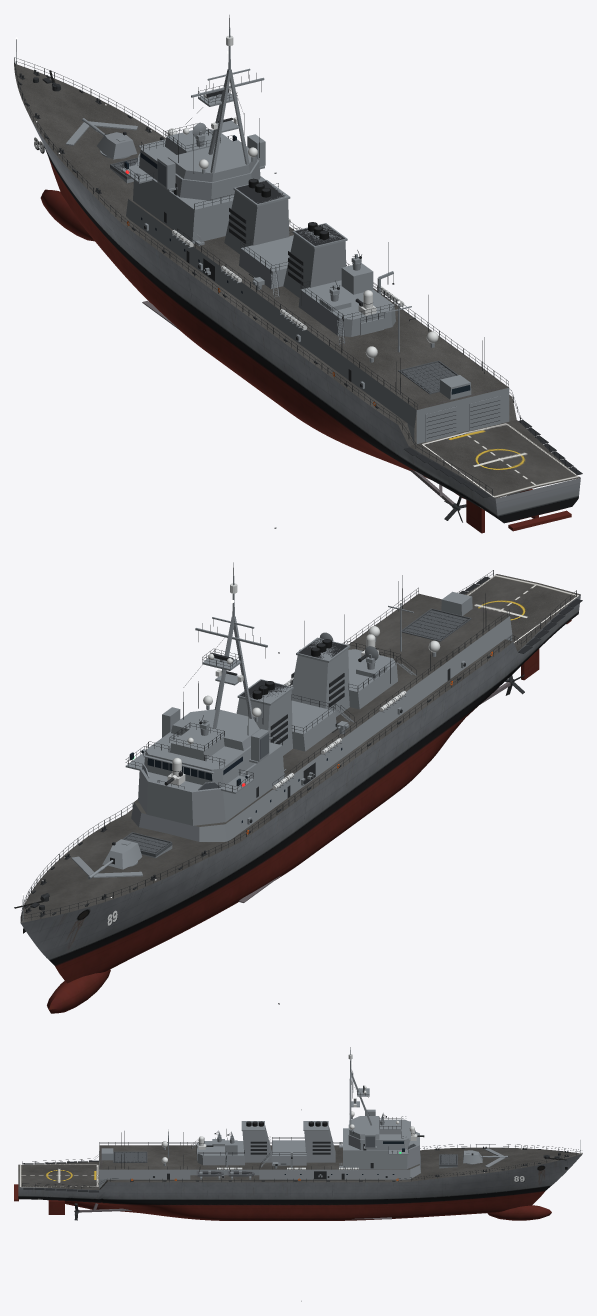
Rendered from destroyer.glb.
The picture shows the model from 3 angles, top to bottom: view 1: azimuth 30°, elevation 25°; view 2: azimuth 150°, elevation 25°; view 3: azimuth 270°, elevation 25°; orthographic projection. The views are drawn at different scales.
Parts seen in each view (by area): view 1: destroyer_static, mount_gun_0, door_hangar_1, door_hangar_2; view 2: destroyer_static, mount_gun_0; view 3: destroyer_static.
Boxes of the visible parts, <box> form: destroyer_static: <box>14,15,582,533</box>; mount_gun_0: <box>82,118,137,159</box>; door_hangar_1: <box>425,406,456,441</box>; door_hangar_2: <box>469,396,500,430</box>; destroyer_static: <box>14,562,582,1013</box>; mount_gun_0: <box>87,839,142,879</box>; destroyer_static: <box>14,1047,582,1220</box>.
Size of the model in its own units: 20.41 by 78.55 by 156.
15 materials, 2 textured.
